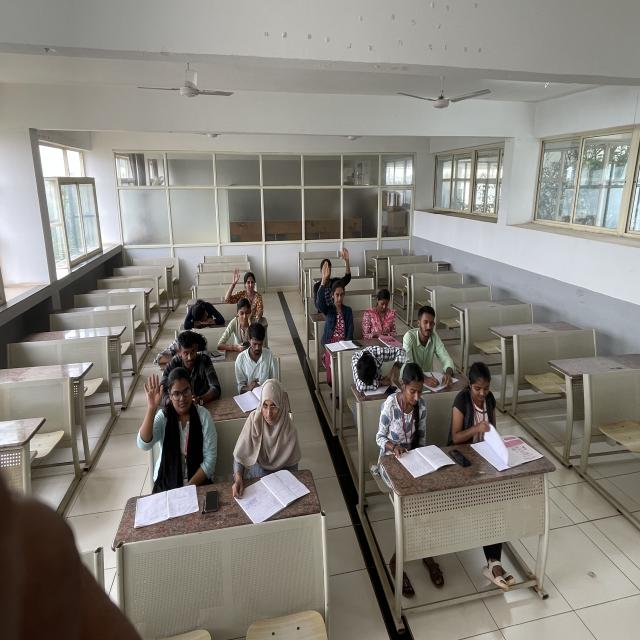Hand Rising: (130, 368, 223, 500), (316, 261, 354, 349), (222, 266, 265, 312), (310, 247, 353, 289)
Reading: (380, 358, 449, 478), (446, 360, 508, 473), (229, 322, 275, 409)
Sleeping: (343, 339, 401, 392), (177, 296, 228, 330), (167, 328, 215, 364)
Using Phone: (160, 327, 223, 402), (219, 296, 255, 360), (360, 289, 400, 343)
Writing: (228, 373, 310, 533), (404, 305, 454, 387)
